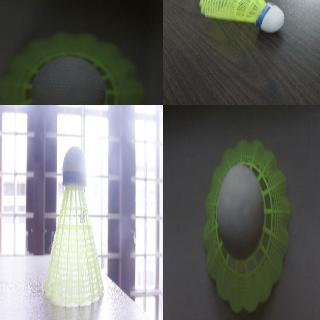shuttlecock: (204, 139, 290, 311), (0, 30, 145, 104), (44, 145, 104, 305), (199, 0, 284, 33)
